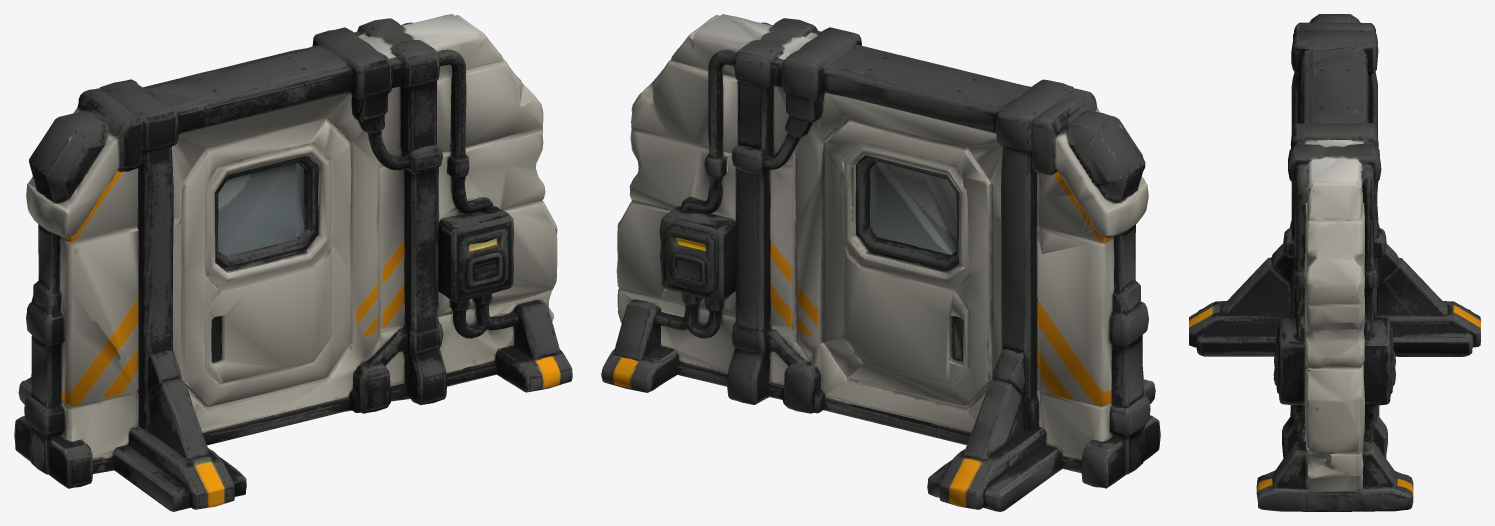
File: 05_station_bulkhead_fragment.fbx
3 views of the same model, side by side, from view 1: azimuth 30°, elevation 25°; view 2: azimuth 150°, elevation 25°; view 3: azimuth 270°, elevation 25° (orthographic). The views are drawn at different scales.
Parts seen in each view (by area): view 1: 05_station_bulkhead_fragment; view 2: 05_station_bulkhead_fragment; view 3: 05_station_bulkhead_fragment.
Boxes of the visible parts, x1,y1,x2,y2 form: 05_station_bulkhead_fragment: (14,14,572,511); 05_station_bulkhead_fragment: (601,14,1160,511); 05_station_bulkhead_fragment: (1189,14,1480,511).
Size of the model in its own units: 3.2 by 2.1 by 1.81.
1 material, 1 textured.
